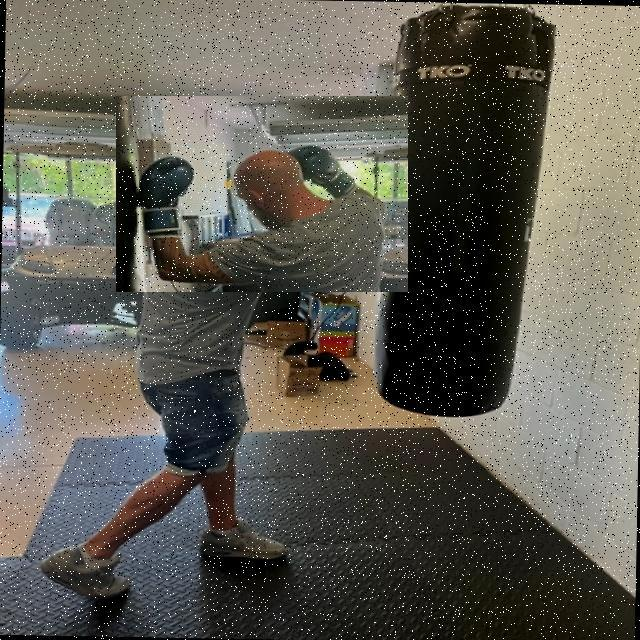punch: (116, 96, 408, 292)
